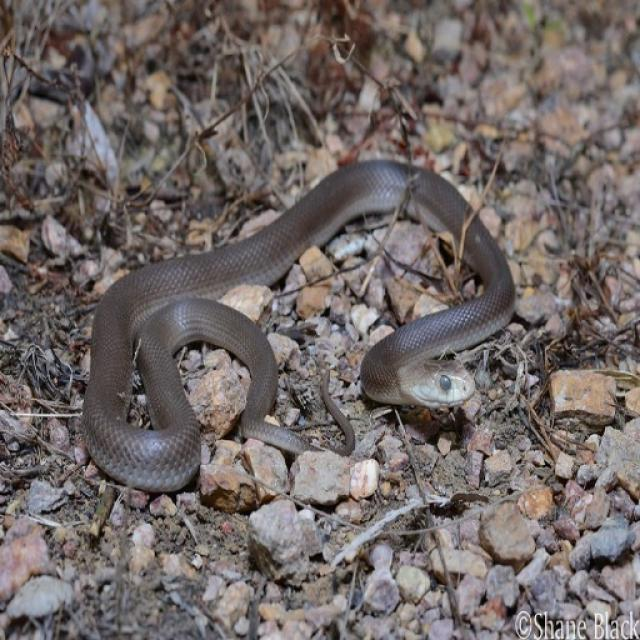snake: (70, 144, 520, 483)
